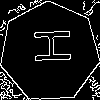H: (24, 27, 71, 65)
